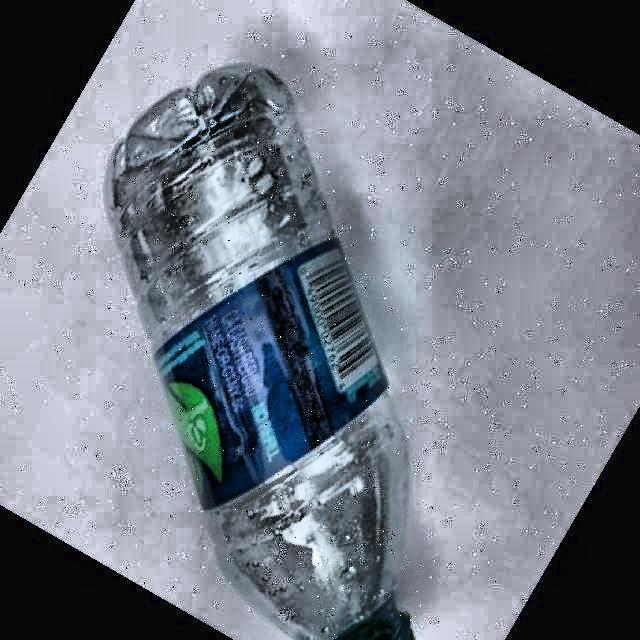plastic: (106, 65, 410, 640)
